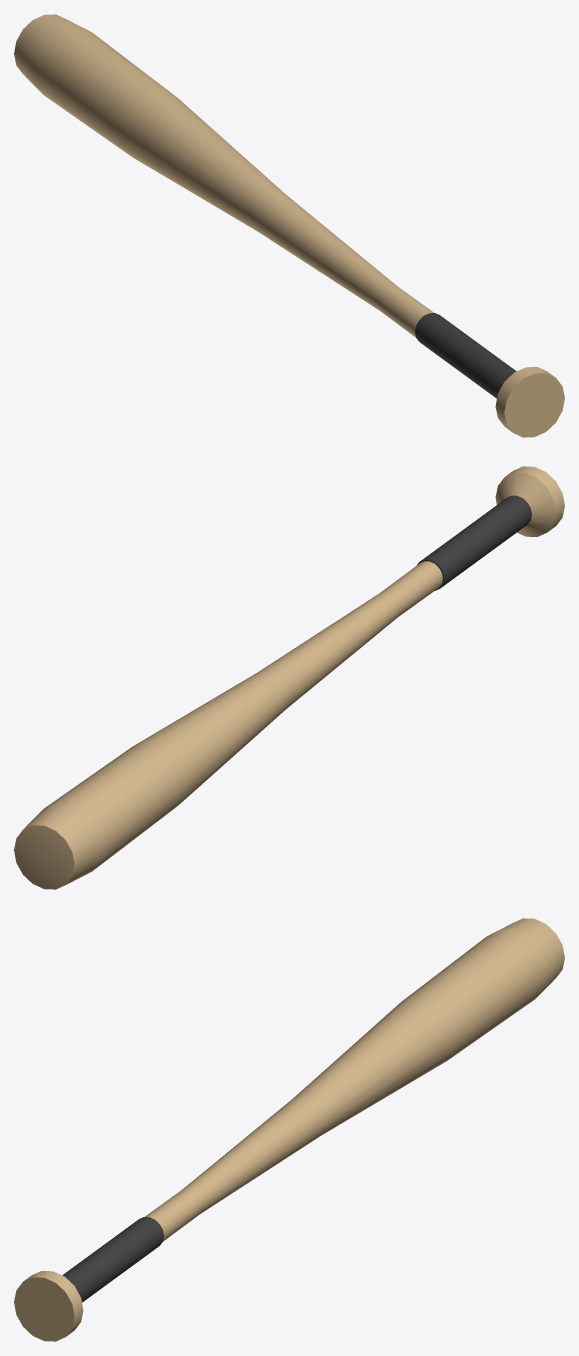
File: baseball_bat.glb
3 renders of one model, top to bottom at view 1: azimuth 30°, elevation 25°; view 2: azimuth 150°, elevation 25°; view 3: azimuth 330°, elevation 25°, orthographic.
Visible parts, largest first — view 1: baseball_bat_mesh; view 2: baseball_bat_mesh; view 3: baseball_bat_mesh.
Boxes of the visible parts, x1=… form: baseball_bat_mesh: x1=14, y1=14, x2=564, y2=437; baseball_bat_mesh: x1=14, y1=466, x2=564, y2=889; baseball_bat_mesh: x1=14, y1=918, x2=564, y2=1341.
Size of the model in its own units: 0.068 by 0.068 by 0.845.
